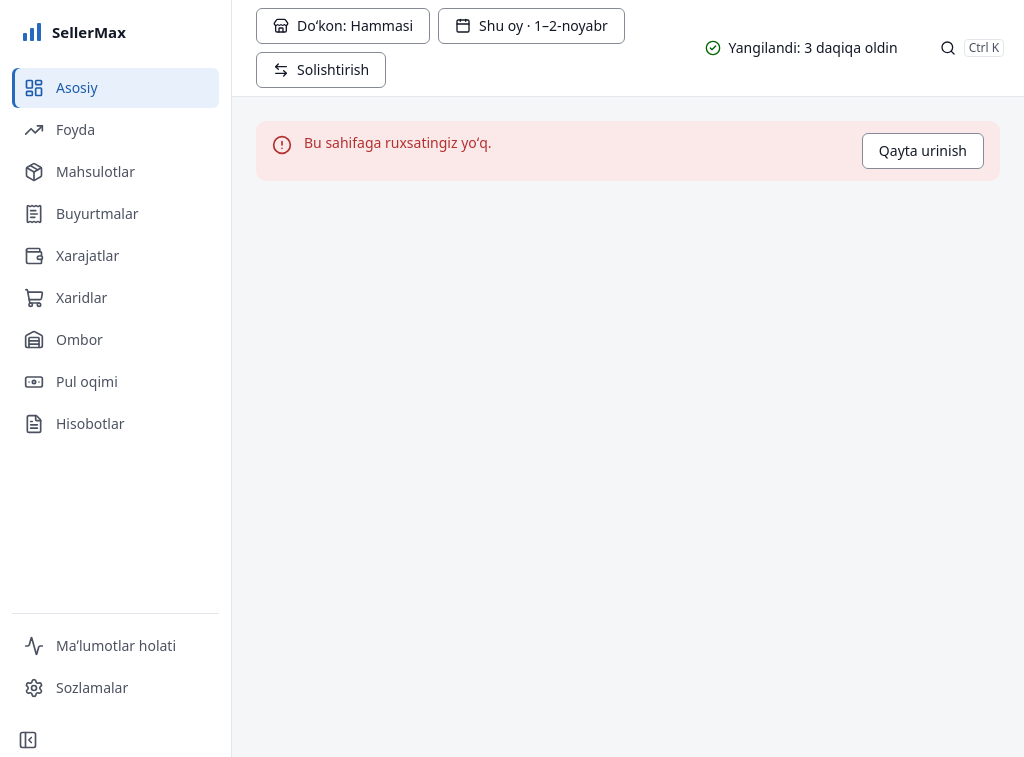
Test case: holatlar › server xatosi — xato bannerida sabab va 'Qayta urinish'
Expected: the message shows "Bu sahifaga ruxsatingiz yoʻq.", [304,133,492,152]
Step 1. Click the button "Qayta urinish" → (923, 151), box [862,133,984,169]
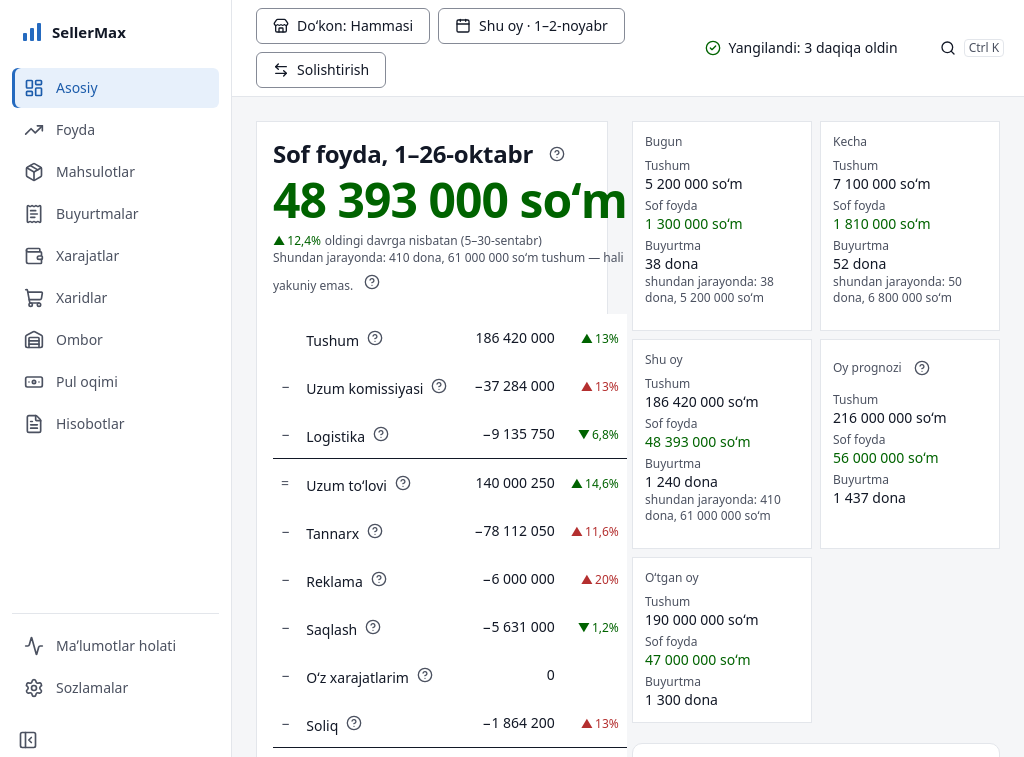
Now the text with test id "net-profit" is shown, box [273,174,627,226]
